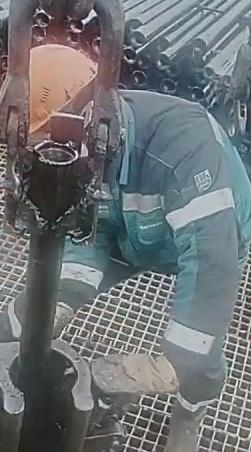gloves: (88, 346, 184, 404)
helmet: (27, 42, 100, 139)
vest: (51, 88, 251, 334)
